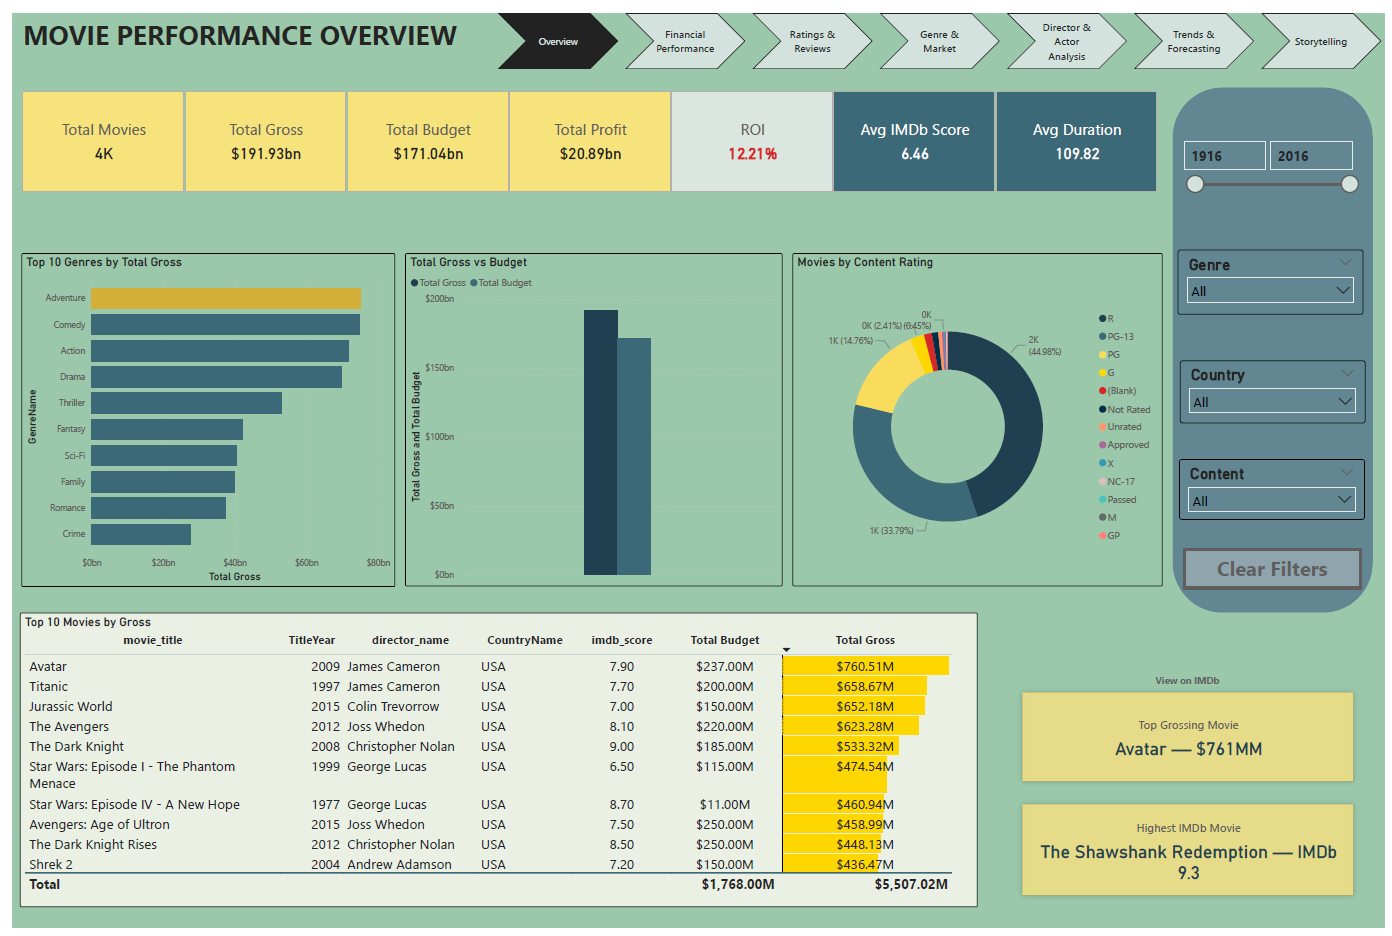

The page's visual inventory and layout, read from the dashboard file:
{"tool":"powerbi","page":{"name":"Overview","canvas":[1920,1280],"ordinal":1},"visuals":[{"type":"cardVisual","fields":{"Data":["Key Measures.Total Movies","Key Measures.Total Gross","Key Measures.Total Budget","Key Measures.Total Profit","Key Measures.ROI","Key Measures.Avg IMDb Score","Key Measures.Avg Duration"]},"box":[10,104.3,1602.9,150],"z":0},{"type":"textbox","box":[10.3,0,682.1,63.6],"z":1000},{"type":"cardVisual","fields":{"Data":["Key Measures.Top Grossing Movie"]},"box":[1398.3,934.6,495,156.7],"z":1500,"group":"g1"},{"type":"clusteredBarChart","title":"Top 10 Genres by Total Gross","fields":{"Y":["Key Measures.Total Gross"],"Category":["DimGenre.GenreName"]},"box":[12.5,336.2,523.8,466.2],"z":2000},{"type":"cardVisual","fields":{"Data":["Key Measures.Highest IMDb Movie"]},"box":[1398.3,1091.2,495,160],"z":2000,"group":"g1"},{"type":"actionButton","box":[1567.7,913.3,155,40],"z":2500,"group":"g1"},{"type":"clusteredColumnChart","title":"Total Gross vs Budget","fields":{"Y":["Key Measures.Total Gross","Key Measures.Total Budget"]},"box":[550,336,528,466],"z":3000},{"type":"donutChart","title":"Movies by Content Rating","fields":{"Category":["DimContentRating.ContentRating"],"Y":["Key Measures.Total Movies"]},"box":[1092,336,518,466],"z":4000},{"type":"tableEx","title":"Top 10 Movies by Gross","fields":{"Values":["FactMovie.movie_title","DimYear.TitleYear","DimDirector.director_name","DimCountry.CountryName","FactMovie.imdb_score","Key Measures.Total Budget","Key Measures.Total Gross"]},"box":[11.2,838.8,1340,412.5],"z":5000},{"type":"shape","box":[1623.8,103.8,280,735],"z":5500,"group":"g2"},{"type":"actionButton","box":[1639.2,749.2,248.3,56.7],"z":5750,"group":"g2"},{"type":"slicer","fields":{"Values":["DimYear.TitleYear"]},"box":[1626.6,169.1,266.2,118.8],"z":6000,"group":"g2"},{"type":"group","id":"g1","title":"Group 1","box":[1398.3,913.3,495,337.9],"z":6000},{"type":"group","id":"g2","title":"Group 2","box":[1623.8,103.8,280,735],"z":7000},{"type":"pageNavigator","box":[680,0,1240,78.3],"z":8000},{"type":"slicer","fields":{"Values":["DimGenre.GenreName"]},"box":[1630.4,330.4,260,91.2],"z":8000,"group":"g2"},{"type":"slicer","fields":{"Values":["DimCountry.CountryName"]},"box":[1634.1,485.4,260,88.8],"z":9000,"group":"g2"},{"type":"slicer","fields":{"Values":["DimContentRating.ContentRating"]},"box":[1632.9,624.1,260,85],"z":10000,"group":"g2"}]}

Visuals, with their boxes in screenshot pixels (x1, y1, x2, y2), scaled from the page's 1920x1280 canvas onto the 1392x936 screenshot:
cardVisual - Key Measures.Total Movies x Key Measures.Total Gross: <box>7,76,1169,186</box>
textbox: <box>7,0,502,47</box>
cardVisual - Key Measures.Top Grossing Movie: <box>1014,683,1373,798</box>
"Top 10 Genres by Total Gross" clusteredBarChart: <box>9,246,389,587</box>
cardVisual - Key Measures.Highest IMDb Movie: <box>1014,798,1373,915</box>
actionButton: <box>1137,668,1249,697</box>
"Total Gross vs Budget" clusteredColumnChart: <box>399,246,782,586</box>
"Movies by Content Rating" donutChart: <box>792,246,1167,586</box>
"Top 10 Movies by Gross" tableEx: <box>8,613,980,915</box>
shape: <box>1177,76,1380,613</box>
actionButton: <box>1188,548,1368,589</box>
slicer - DimYear.TitleYear: <box>1179,124,1372,211</box>
"Group 1" group: <box>1014,668,1373,915</box>
"Group 2" group: <box>1177,76,1380,613</box>
pageNavigator: <box>493,0,1391,57</box>
slicer - DimGenre.GenreName: <box>1182,242,1371,308</box>
slicer - DimCountry.CountryName: <box>1185,355,1373,420</box>
slicer - DimContentRating.ContentRating: <box>1184,456,1372,519</box>
